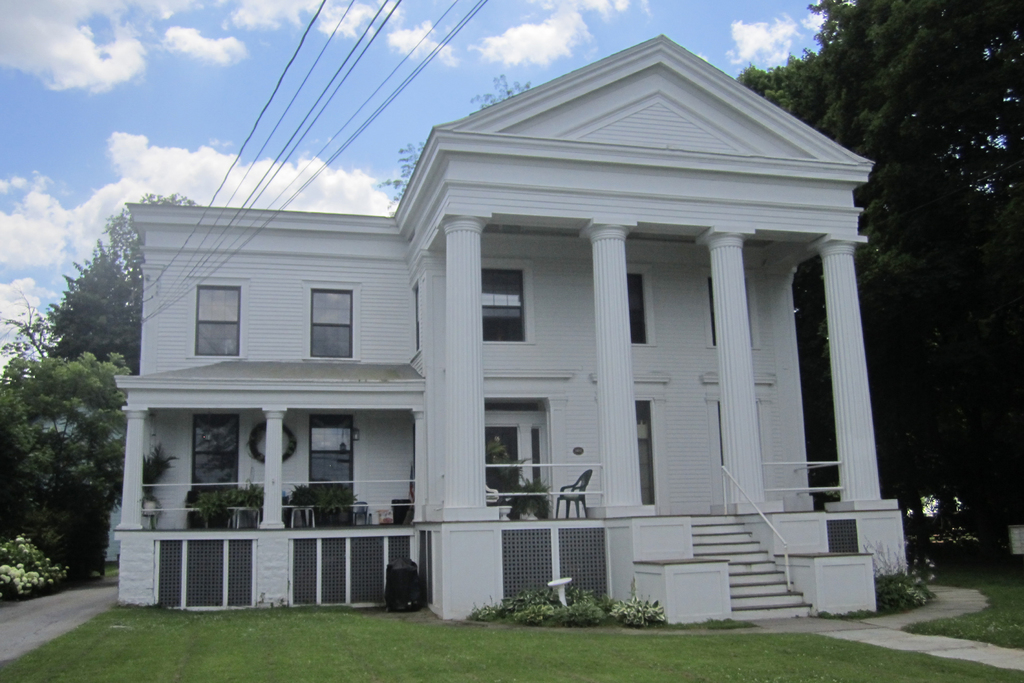Tree: (739, 0, 1023, 518), (10, 188, 208, 376), (0, 349, 125, 558)
